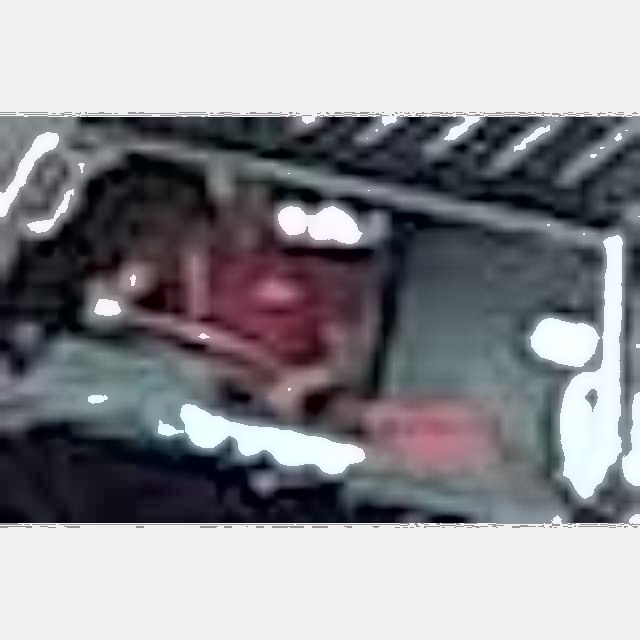tidak-pakai: (121, 160, 363, 428)
